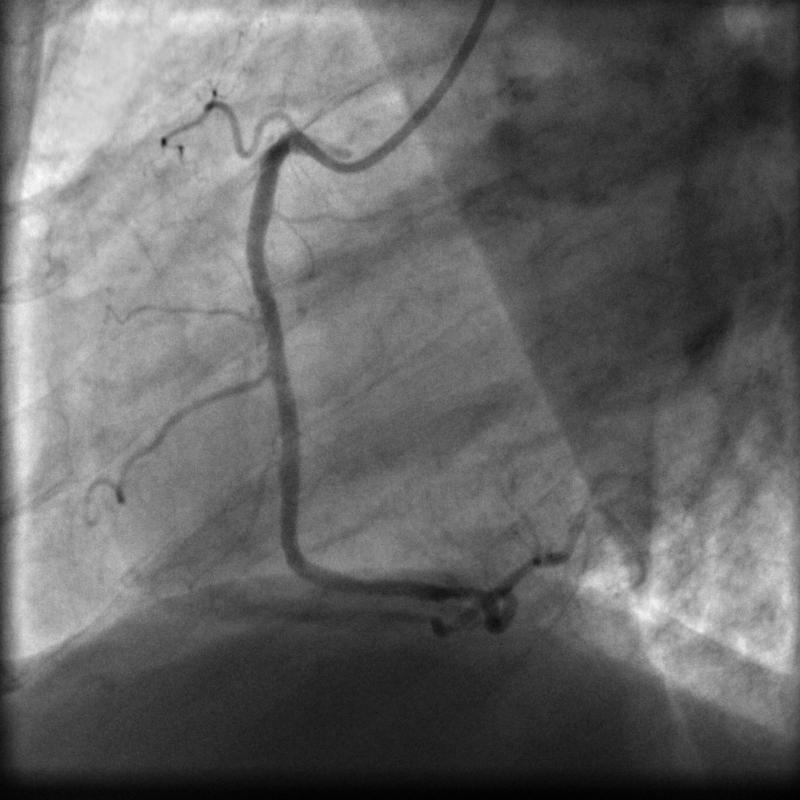Stenosis: (442, 570, 484, 610)
